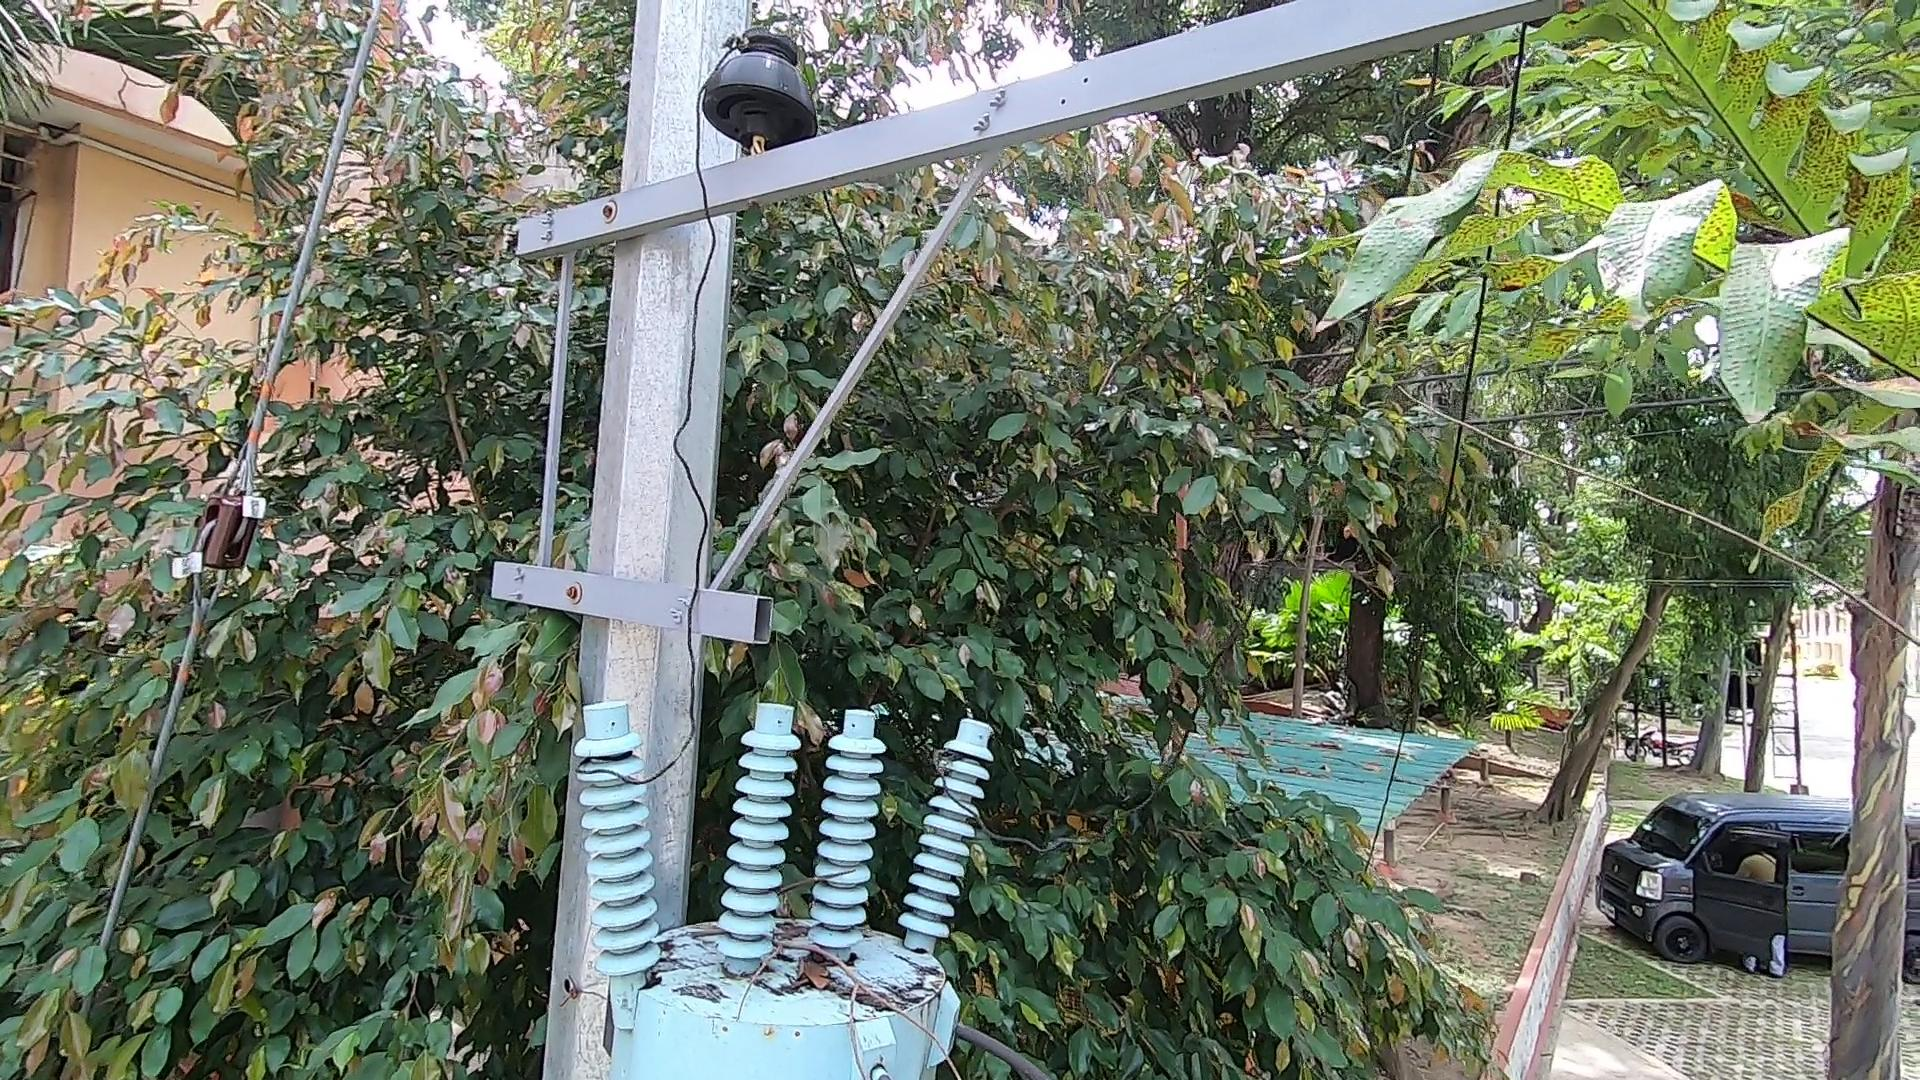leaf: (779, 939, 843, 998)
tree branch: (715, 880, 980, 1080)
